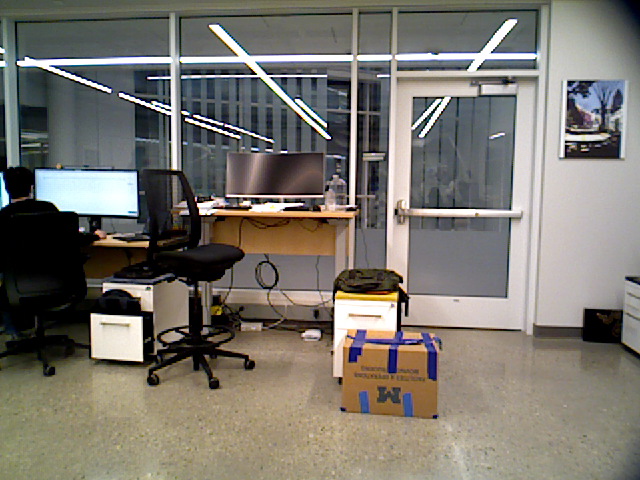painting3: (560, 79, 627, 159)
